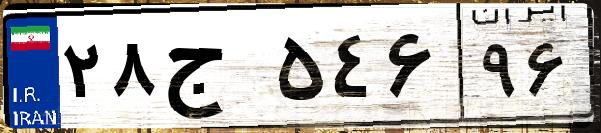2: (57, 26, 110, 100)
4: (330, 28, 385, 110)
5: (270, 28, 330, 110)
6: (385, 28, 445, 110), (525, 38, 570, 115)
8: (110, 28, 158, 98)
9: (475, 38, 525, 113)
ج: (158, 20, 270, 120)
